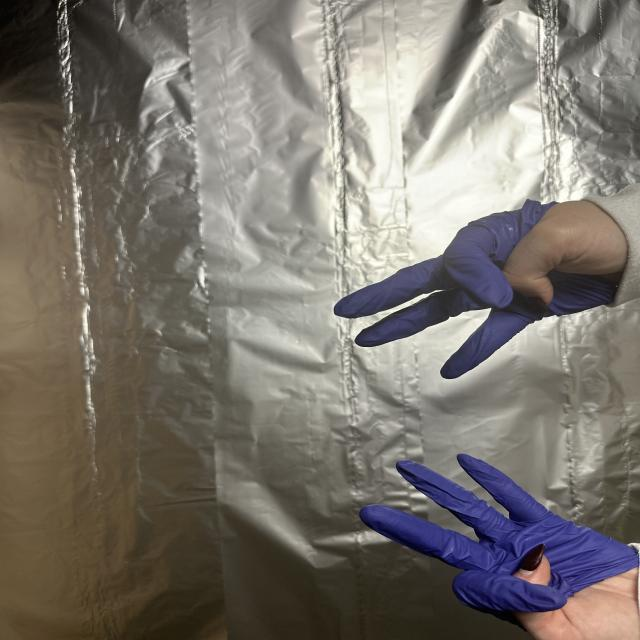glove_partial: (352, 444, 640, 640), (330, 196, 627, 382)
